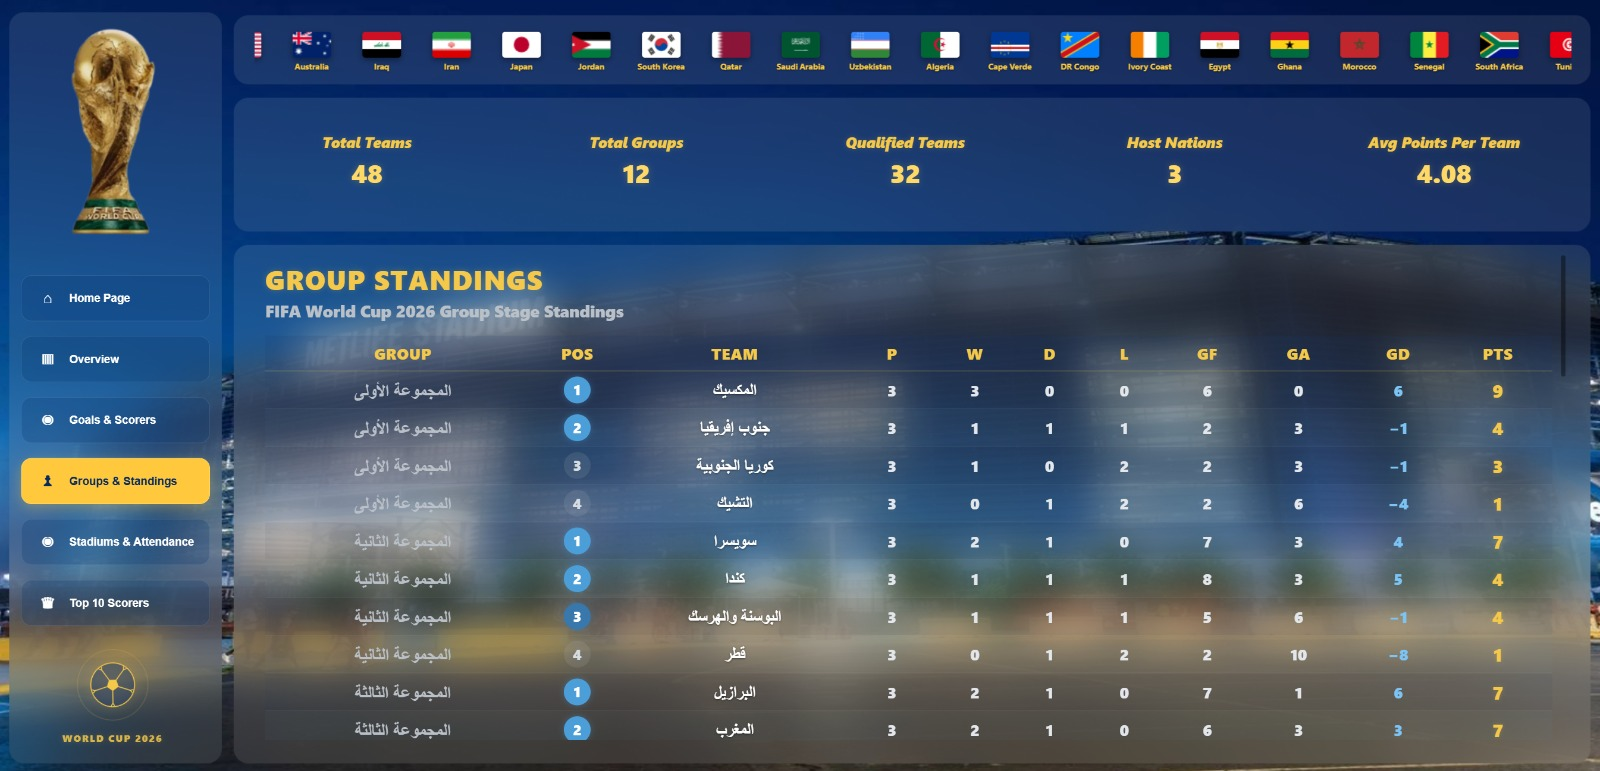

The page's visual inventory and layout, read from the dashboard file:
{"tool":"powerbi","page":{"name":"Groups & Standings","canvas":[2162,1045],"ordinal":3},"visuals":[{"type":"htmlContent443BE3AD55E043BF878BED274D3A6855","fields":{"content":["HTML Dax.Teams KPIs HTML"]},"box":[318,164,1812,130],"z":0},{"type":"htmlContent443BE3AD55E043BF878BED274D3A6855","fields":{"content":["HTML Dax.Group Standings HTML"]},"box":[326,330,1804,684],"z":1000},{"type":"htmlContent443BE3AD55E043BF878BED274D3A6855","fields":{"content":["HTML Dax.Page Navigation HTML"]},"box":[4,338,314,668],"z":2000},{"type":"htmlContent443BE3AD55E043BF878BED274D3A6855","fields":{"content":["HTML DAX.Teams Marquee 4"]},"box":[332,22,1804,104],"z":3000},{"type":"actionButton","box":[98,396,84,16],"z":4000},{"type":"actionButton","box":[98,478,70,16],"z":5000},{"type":"actionButton","box":[98,558,120,18],"z":6000},{"type":"actionButton","box":[96,722,172,18],"z":7000},{"type":"actionButton","box":[96,806,112,18],"z":8000},{"type":"htmlContent443BE3AD55E043BF878BED274D3A6855","fields":{"content":["HTML DAX.Sidebar Decoration HTML 3"]},"box":[0,861,314,184],"z":8001}]}

Visuals, with their boxes on the page's 2162x1045 design canvas (x1, y1, x2, y2). These are canvas units, not pixel positions in the 1600x771 screenshot, which may show the page scaled, cropped or inside an application window:
htmlContent443BE3AD55E043BF878BED274D3A6855 - HTML Dax.Teams KPIs HTML: rect(318, 164, 2130, 294)
htmlContent443BE3AD55E043BF878BED274D3A6855 - HTML Dax.Group Standings HTML: rect(326, 330, 2130, 1014)
htmlContent443BE3AD55E043BF878BED274D3A6855 - HTML Dax.Page Navigation HTML: rect(4, 338, 318, 1006)
htmlContent443BE3AD55E043BF878BED274D3A6855 - HTML DAX.Teams Marquee 4: rect(332, 22, 2136, 126)
actionButton: rect(98, 396, 182, 412)
actionButton: rect(98, 478, 168, 494)
actionButton: rect(98, 558, 218, 576)
actionButton: rect(96, 722, 268, 740)
actionButton: rect(96, 806, 208, 824)
htmlContent443BE3AD55E043BF878BED274D3A6855 - HTML DAX.Sidebar Decoration HTML 3: rect(0, 861, 314, 1045)
